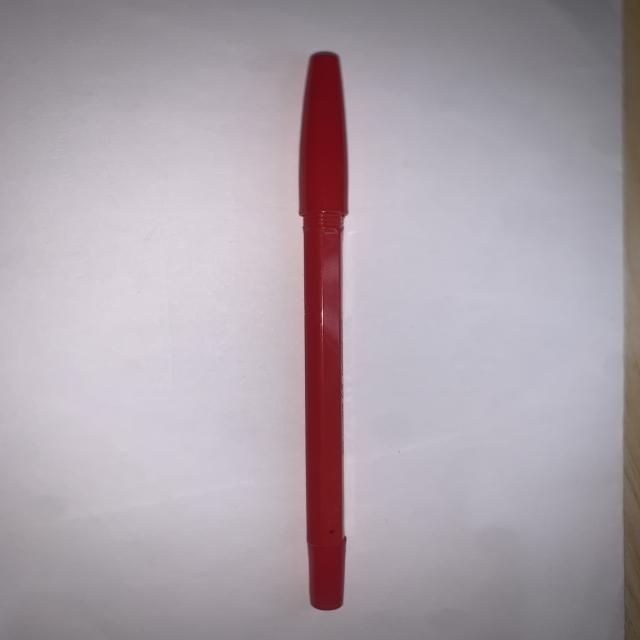Pulpen: (277, 46, 368, 618)
